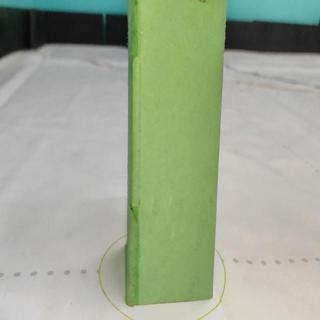greenbox: (127, 0, 226, 304)
